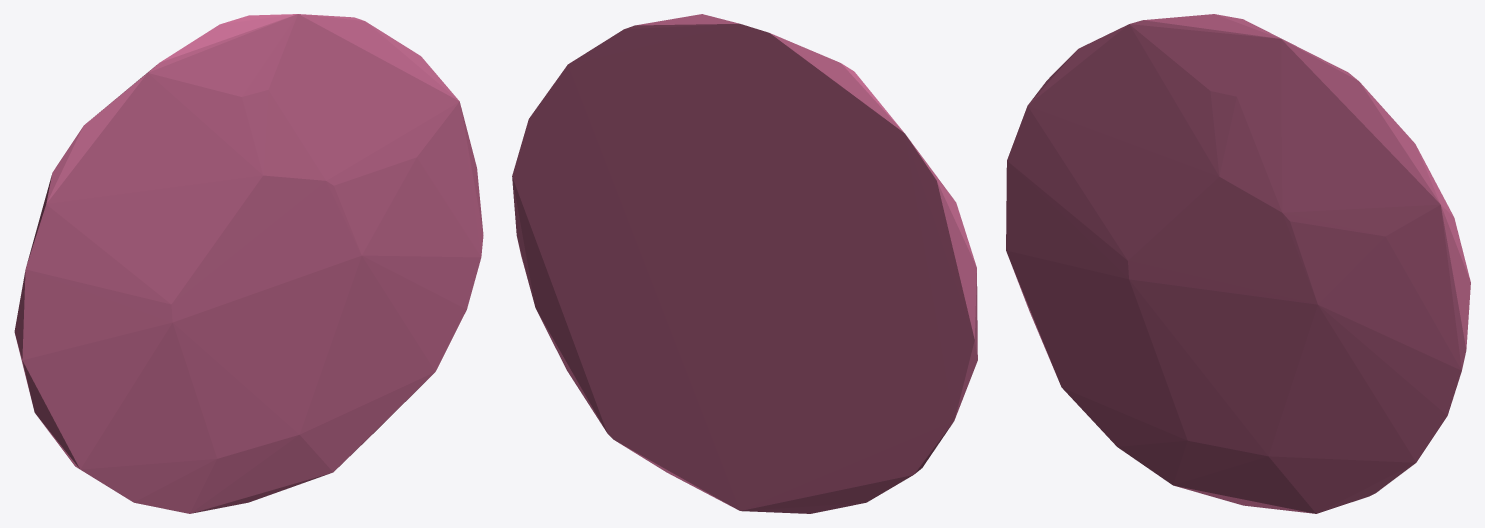
The model's file is engineComponent_flywheel_a01.glb.
The picture shows the model from 3 angles, left to right: view 1: azimuth 30°, elevation 25°; view 2: azimuth 150°, elevation 25°; view 3: azimuth 330°, elevation 25°; orthographic projection.
Parts seen in each view (by area): view 1: geometry_0; view 2: geometry_0; view 3: geometry_0.
Boxes of the visible parts, x1,y1,x2,y2 form: geometry_0: [14, 14, 483, 513]; geometry_0: [512, 14, 977, 513]; geometry_0: [1006, 14, 1470, 513].
Bounding box in the file's own units: 0.4775 × 0.4796 × 0.0343.
